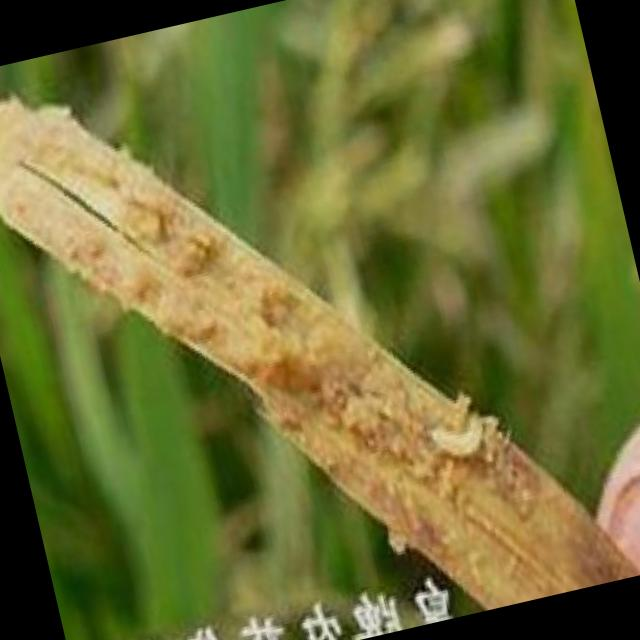whorl-maggot: (422, 400, 500, 470)
